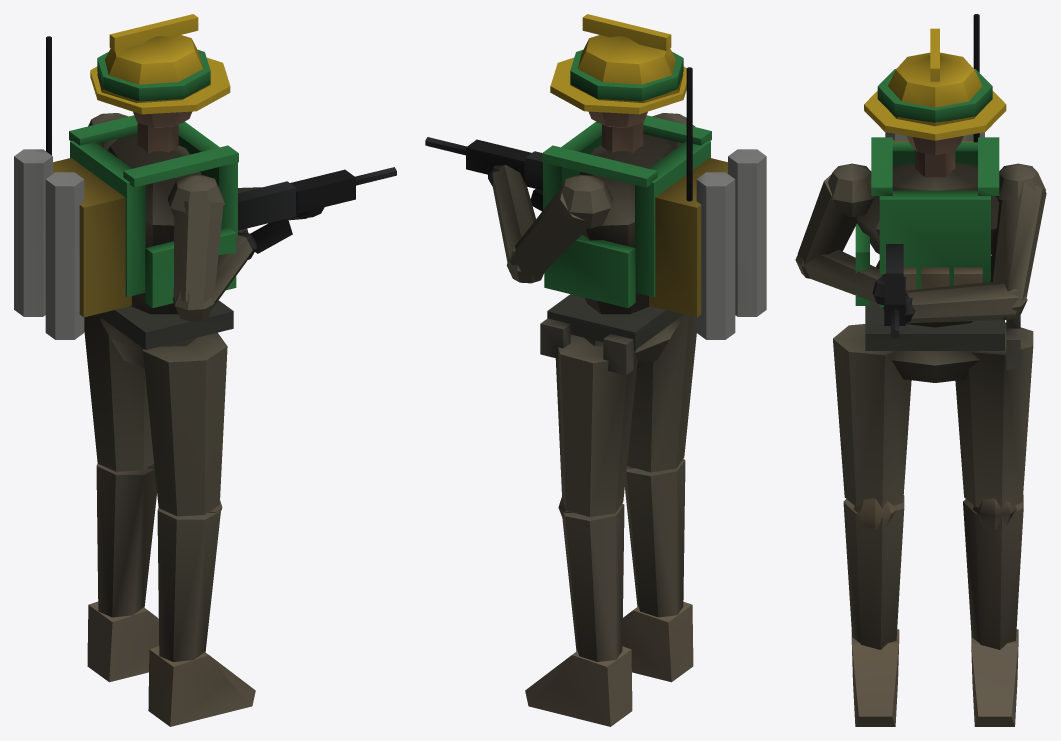
Rendered from u_engineer_lod1.glb.
3 views of the same model, side by side, from view 1: azimuth 30°, elevation 25°; view 2: azimuth 150°, elevation 25°; view 3: azimuth 270°, elevation 25° (orthographic). The views are drawn at different scales.
Visible parts, largest first — view 1: Engineer_LOD1_Walls, Engineer_LOD1_Details, Engineer_LOD1_shL, Engineer_LOD1_thL, Engineer_LOD1_shR, Engineer_LOD1_thR; view 2: Engineer_LOD1_Walls, Engineer_LOD1_Details, Engineer_LOD1_shR, Engineer_LOD1_shL, Engineer_LOD1_thR, Engineer_LOD1_thL; view 3: Engineer_LOD1_Walls, Engineer_LOD1_shL, Engineer_LOD1_shR, Engineer_LOD1_thL, Engineer_LOD1_thR, Engineer_LOD1_Details.
Boxes of the visible parts, x1=… form: Engineer_LOD1_Walls: x1=53, y1=35, x2=396, y2=368; Engineer_LOD1_Details: x1=14, y1=14, x2=233, y2=349; Engineer_LOD1_shL: x1=148, y1=500, x2=255, y2=726; Engineer_LOD1_thL: x1=143, y1=332, x2=227, y2=516; Engineer_LOD1_shR: x1=87, y1=463, x2=159, y2=682; Engineer_LOD1_thR: x1=84, y1=314, x2=153, y2=471; Engineer_LOD1_Walls: x1=425, y1=35, x2=727, y2=368; Engineer_LOD1_Details: x1=540, y1=14, x2=766, y2=375; Engineer_LOD1_shR: x1=525, y1=495, x2=632, y2=726; Engineer_LOD1_shL: x1=622, y1=459, x2=693, y2=682; Engineer_LOD1_thR: x1=555, y1=334, x2=637, y2=516; Engineer_LOD1_thL: x1=627, y1=314, x2=696, y2=472; Engineer_LOD1_Walls: x1=795, y1=52, x2=1046, y2=382; Engineer_LOD1_shL: x1=843, y1=495, x2=904, y2=726; Engineer_LOD1_shR: x1=963, y1=495, x2=1023, y2=726; Engineer_LOD1_thL: x1=833, y1=324, x2=911, y2=508; Engineer_LOD1_thR: x1=955, y1=322, x2=1033, y2=508; Engineer_LOD1_Details: x1=865, y1=14, x2=1020, y2=369.
Bounding box in the file's own units: 0.3239 × 0.606 × 0.212.
